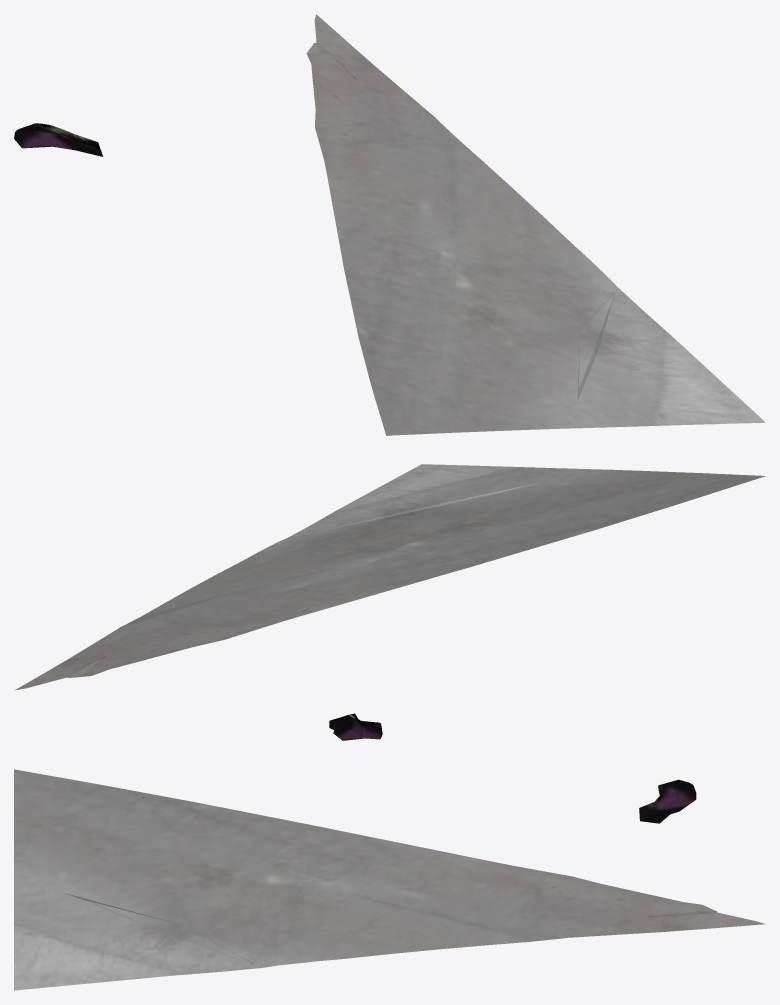
The picture shows the model from 3 angles, top to bottom: view 1: azimuth 30°, elevation 25°; view 2: azimuth 150°, elevation 25°; view 3: azimuth 270°, elevation 25°; orthographic projection. The views are drawn at different scales.
Size of the model in its own units: 6.21 by 1.24 by 12.75.
1 material, 1 textured.
